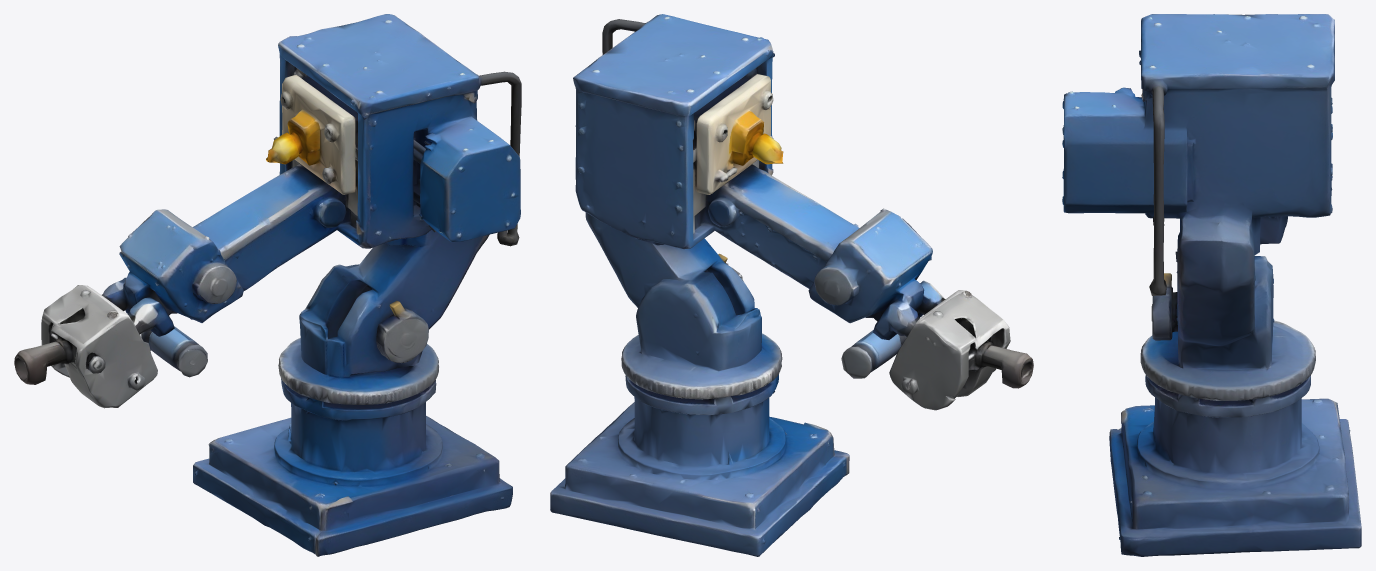
File: service-arm.glb
3 renders of one model, left to right at view 1: azimuth 30°, elevation 25°; view 2: azimuth 150°, elevation 25°; view 3: azimuth 270°, elevation 25°, orthographic. The views are drawn at different scales.
Visible parts, largest first — view 1: tripo_node_eee1a69f-c7c3-4d20-a1dc-92b496814ceb; view 2: tripo_node_eee1a69f-c7c3-4d20-a1dc-92b496814ceb; view 3: tripo_node_eee1a69f-c7c3-4d20-a1dc-92b496814ceb.
Part boxes in pixels (x1,y1,x2,y2): tripo_node_eee1a69f-c7c3-4d20-a1dc-92b496814ceb: (14, 14, 521, 556); tripo_node_eee1a69f-c7c3-4d20-a1dc-92b496814ceb: (550, 14, 1033, 556); tripo_node_eee1a69f-c7c3-4d20-a1dc-92b496814ceb: (1062, 14, 1361, 556).
Size of the model in its own units: 1 by 0.8923 by 0.5132.
Materials: 1 (1 with a texture image).
